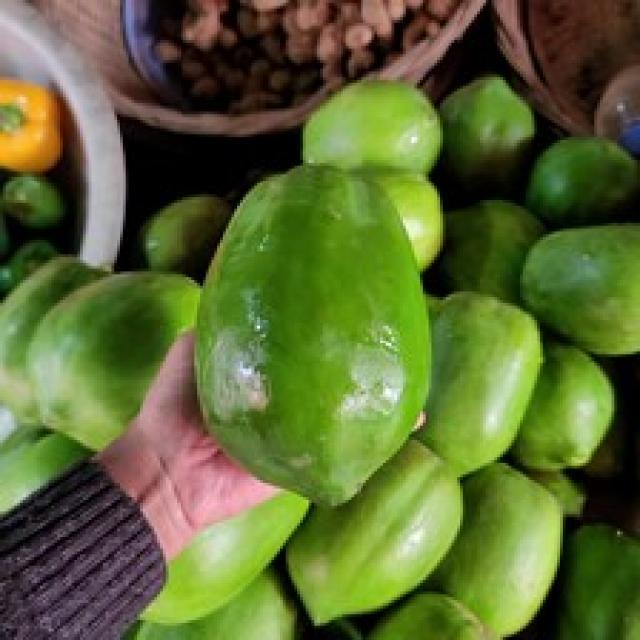Pepaya unrippen: (199, 160, 441, 509)
